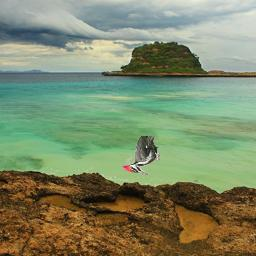Woodpecker: (122, 136, 160, 176)
